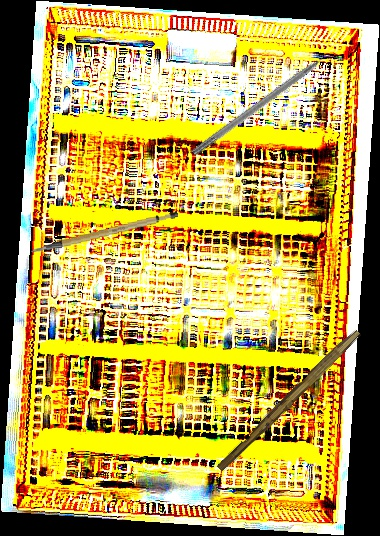Hook Surgical: (190, 46, 340, 158)
Scalpel Handle: (215, 325, 362, 475), (27, 209, 181, 254)
